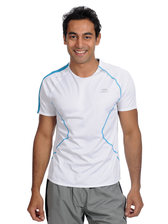clothoes: (29, 59, 142, 184)
